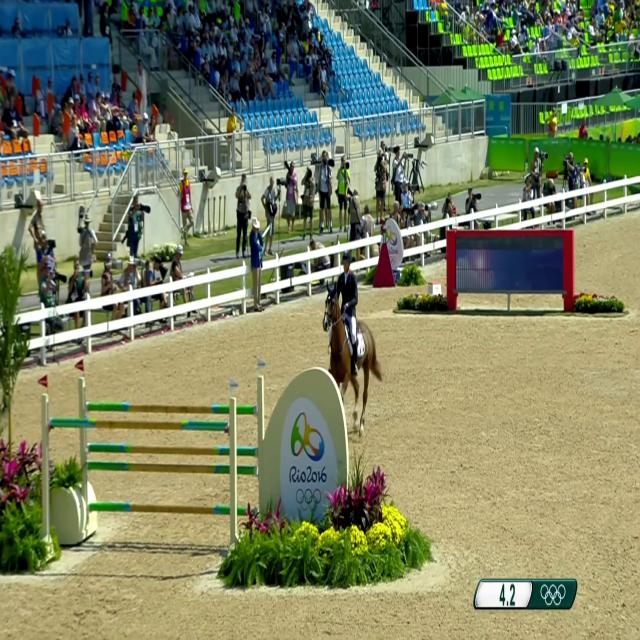Horse Running: (312, 276, 384, 418)
